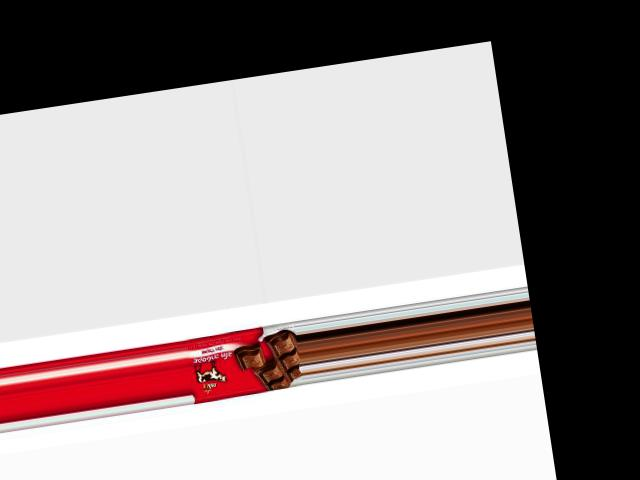chocolate: (182, 321, 303, 402)
